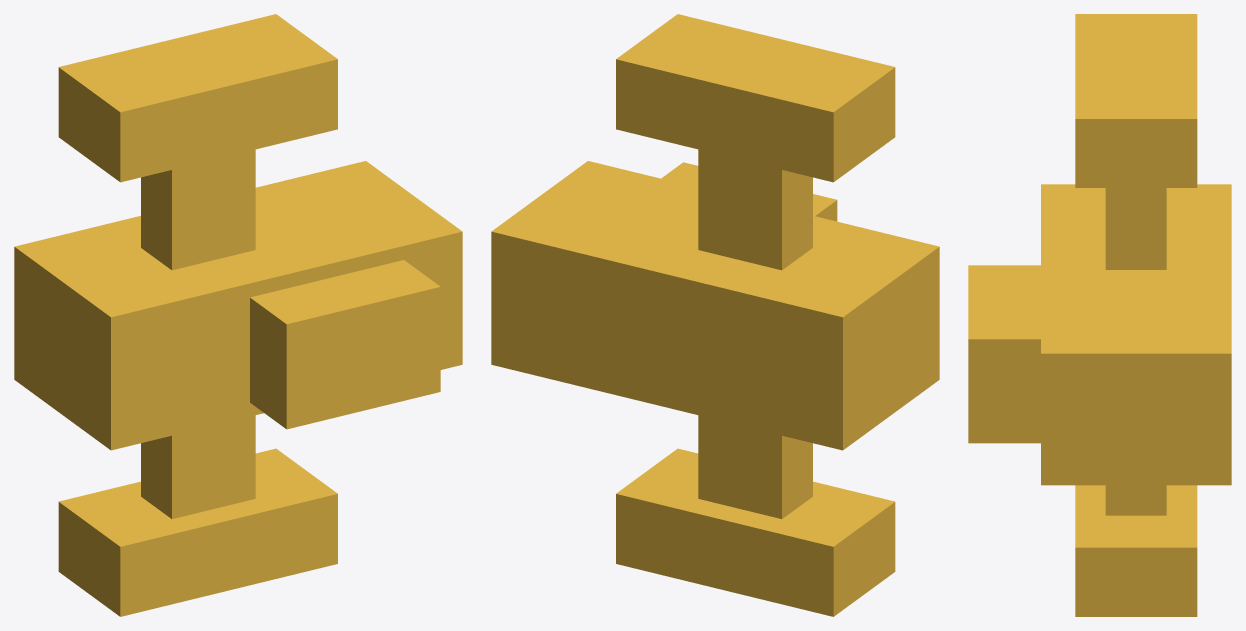
The model's file is step.gltf.
The picture shows the model from 3 angles, left to right: view 1: azimuth 30°, elevation 25°; view 2: azimuth 150°, elevation 25°; view 3: azimuth 270°, elevation 25°; orthographic projection.
Parts seen in each view (by area): view 1: animated; view 2: animated; view 3: animated.
Boxes of the visible parts, box(x1,y1,x2,y2) form: animated: box(14, 14, 462, 616); animated: box(491, 14, 939, 616); animated: box(968, 14, 1231, 616).
Bounding box in the file's own units: 1.05 × 1.44 × 0.69.
